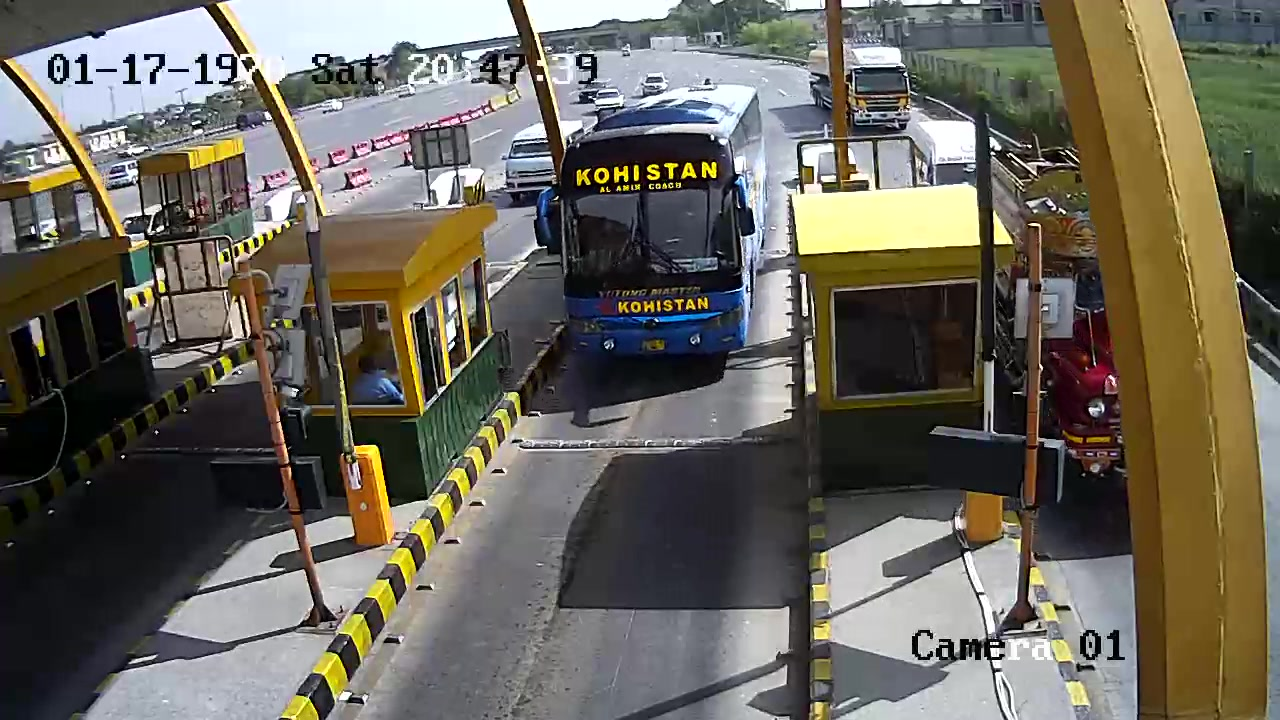F4: (554, 78, 773, 381)
